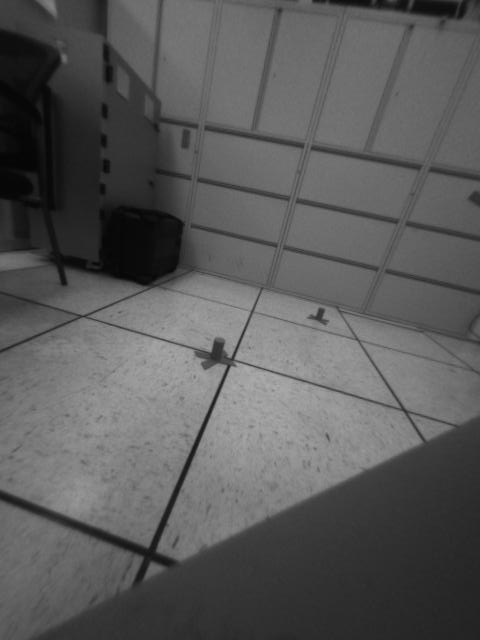X: (192, 335, 237, 370), (307, 304, 333, 326)
